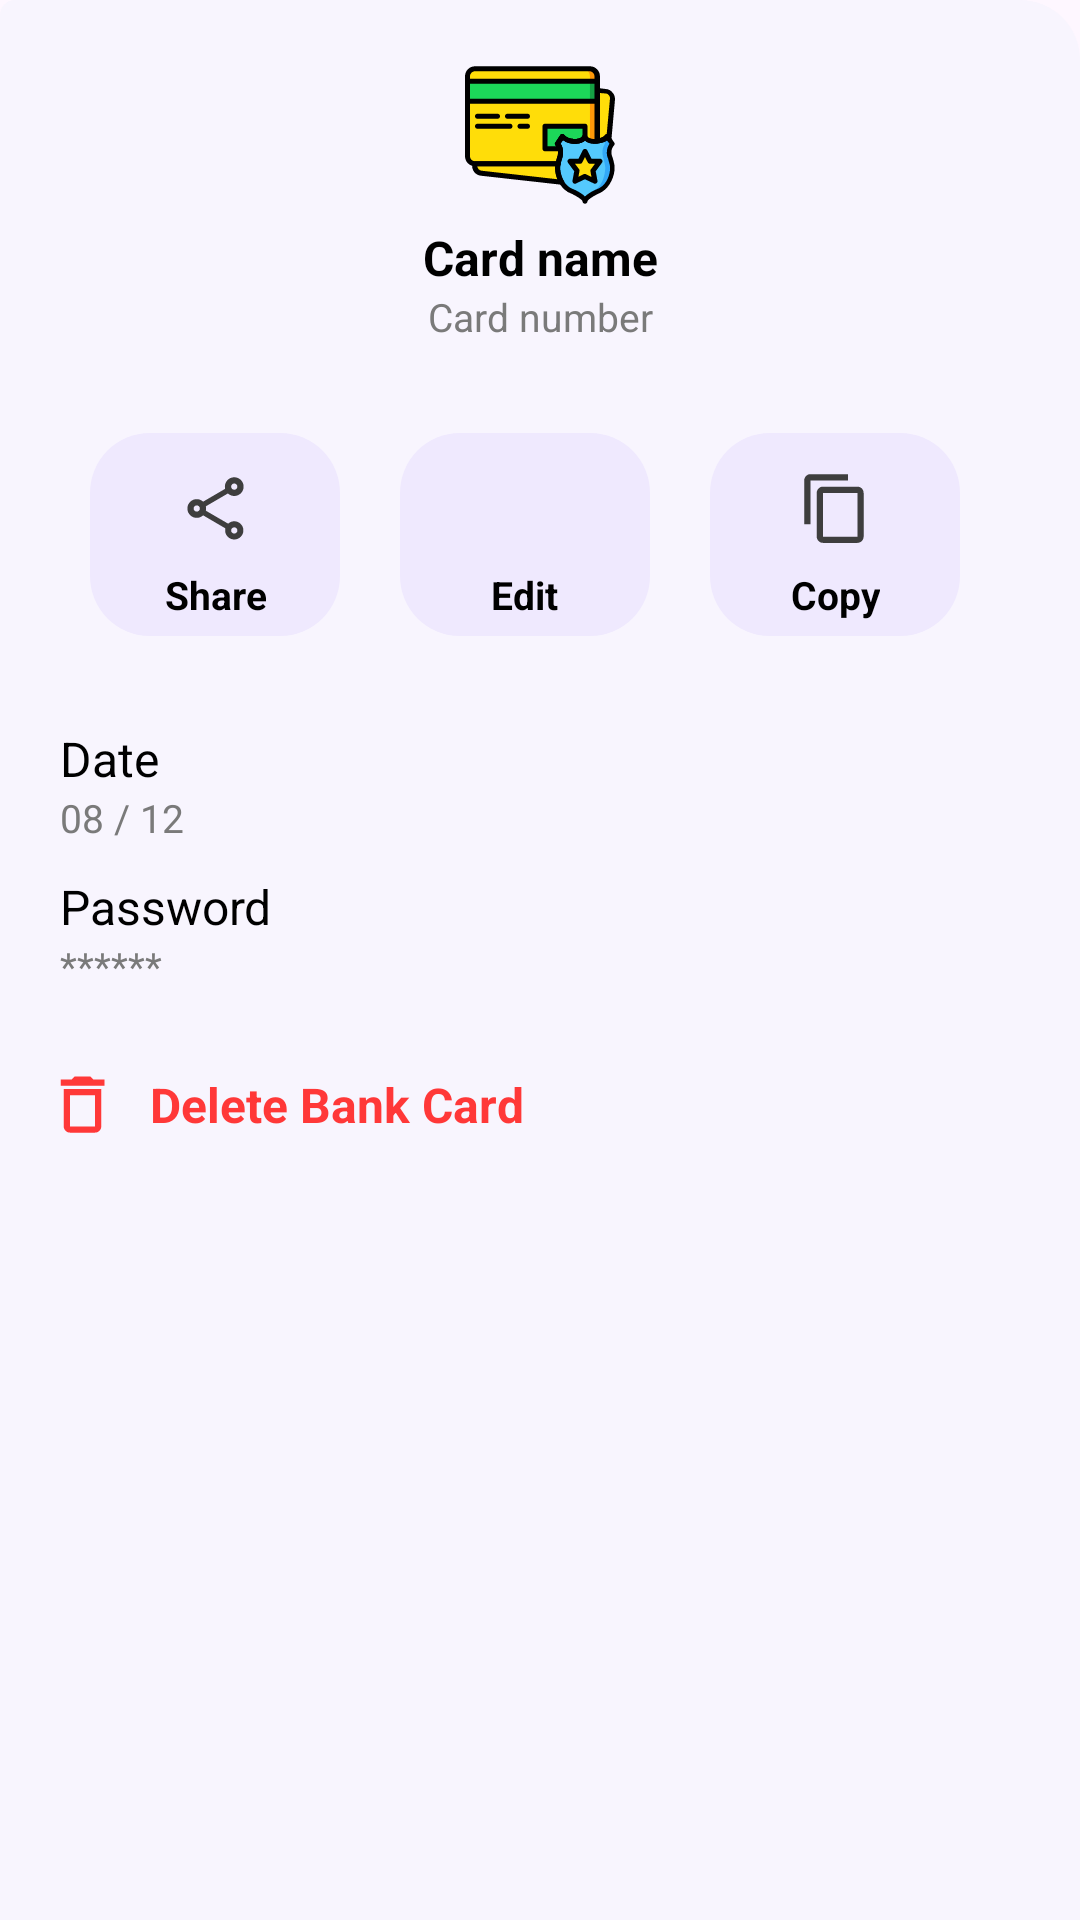

Locate icon controls on the screen. Image size 1080px x 1920px, boxes as (x1, y1, x2, y2).
credit card: (465, 66, 615, 204)
